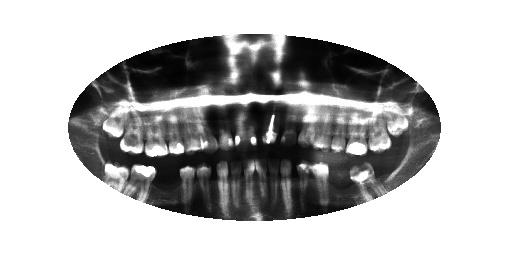i10decay: (224, 154, 244, 213)
i11healthy: (213, 155, 231, 216)
i12healthy: (195, 152, 217, 216)
i13healthy: (174, 152, 195, 217)
i14loss: (147, 153, 181, 209)
i15healthy: (123, 160, 156, 209)
i16healthy: (97, 151, 131, 199)
i1loss: (371, 151, 402, 187)
i2decay: (349, 157, 388, 200)
i3loss: (322, 153, 357, 204)
i4healthy: (309, 155, 330, 211)
i5decay: (292, 151, 313, 216)
i6healthy: (276, 154, 294, 225)
i7decay: (265, 153, 282, 213)
i8decay: (252, 149, 269, 216)
i9decay: (237, 156, 260, 213)
u10decay: (214, 97, 239, 156)
u11healthy: (193, 100, 221, 156)
u12healthy: (181, 99, 205, 153)
u13healthy: (162, 104, 187, 160)
u14healthy: (143, 106, 171, 163)
u15healthy: (118, 105, 148, 156)
u16healthy: (99, 93, 136, 143)
u1healthy: (381, 97, 413, 140)
u2healthy: (364, 106, 394, 157)
u3healthy: (341, 99, 370, 157)
u4healthy: (328, 98, 349, 159)
u5healthy: (307, 98, 333, 154)
u6healthy: (296, 93, 322, 149)
u7decay: (278, 94, 301, 149)
u8healthy: (257, 91, 283, 148)
u9decay: (231, 93, 261, 155)
